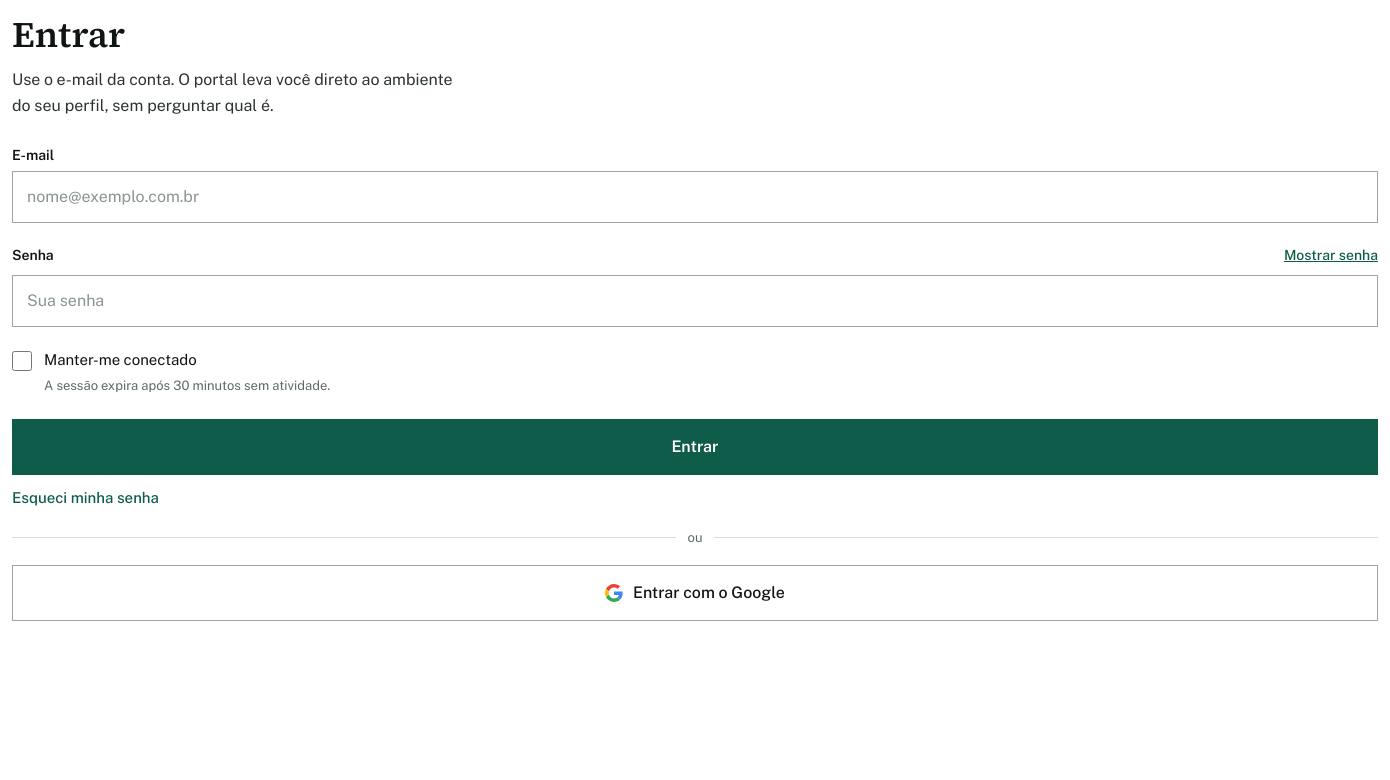
Test case: LoginForm › repete a recusa do servidor sem marcar um dos campos (RN009)
Type "titular@exemplo.com.br" into the field labelled "E-mail" at point(695, 197), box 12,171 -> 1378,223
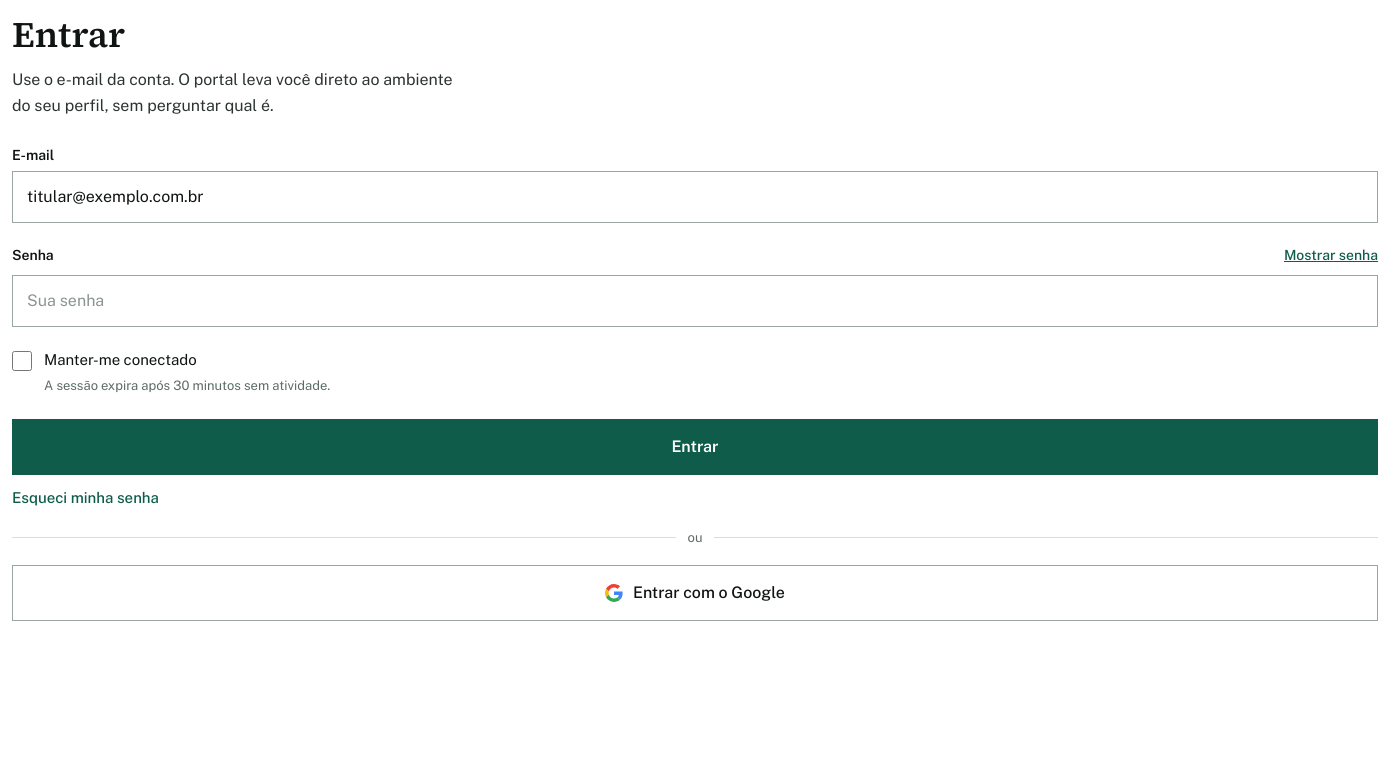
Type "senhaerrada" into the password field labelled "Senha" at point(695, 301), box 12,275 -> 1378,327
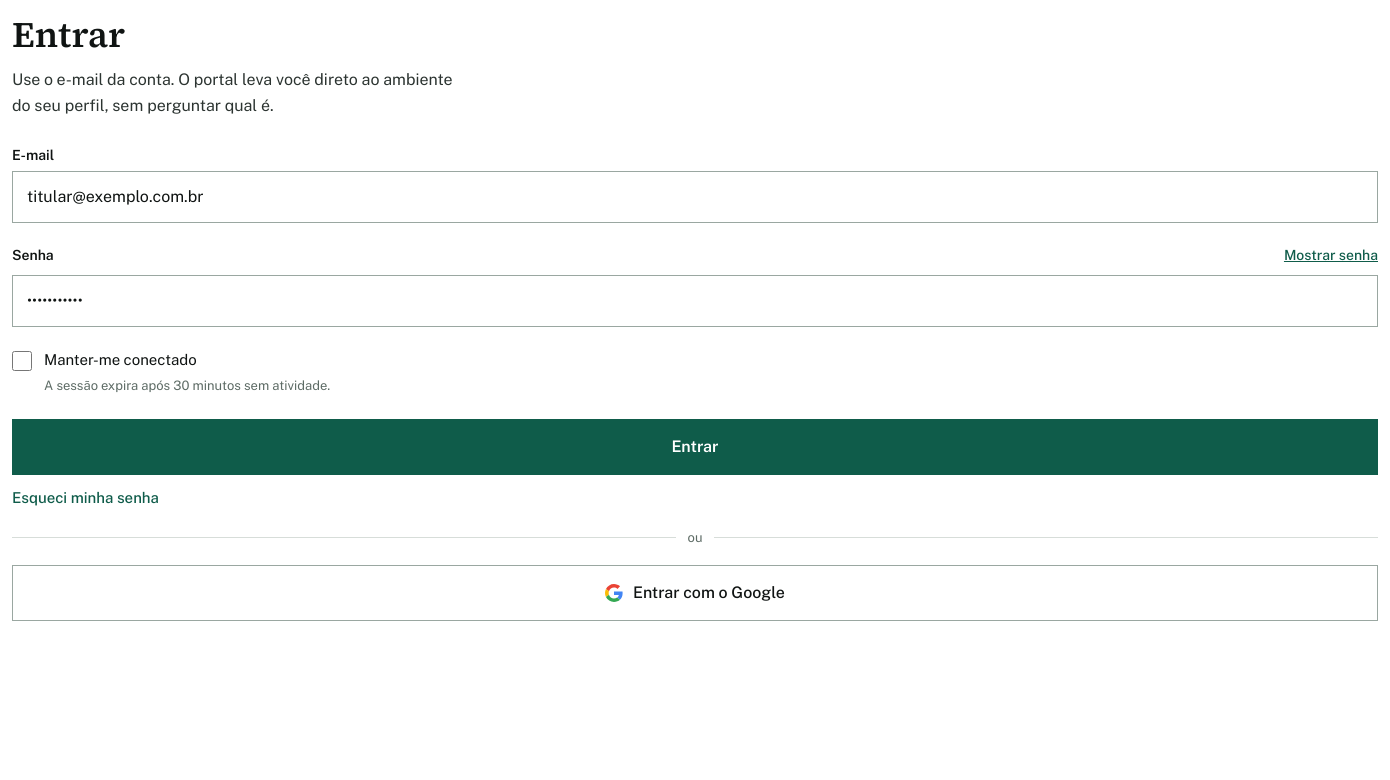
Submit the form
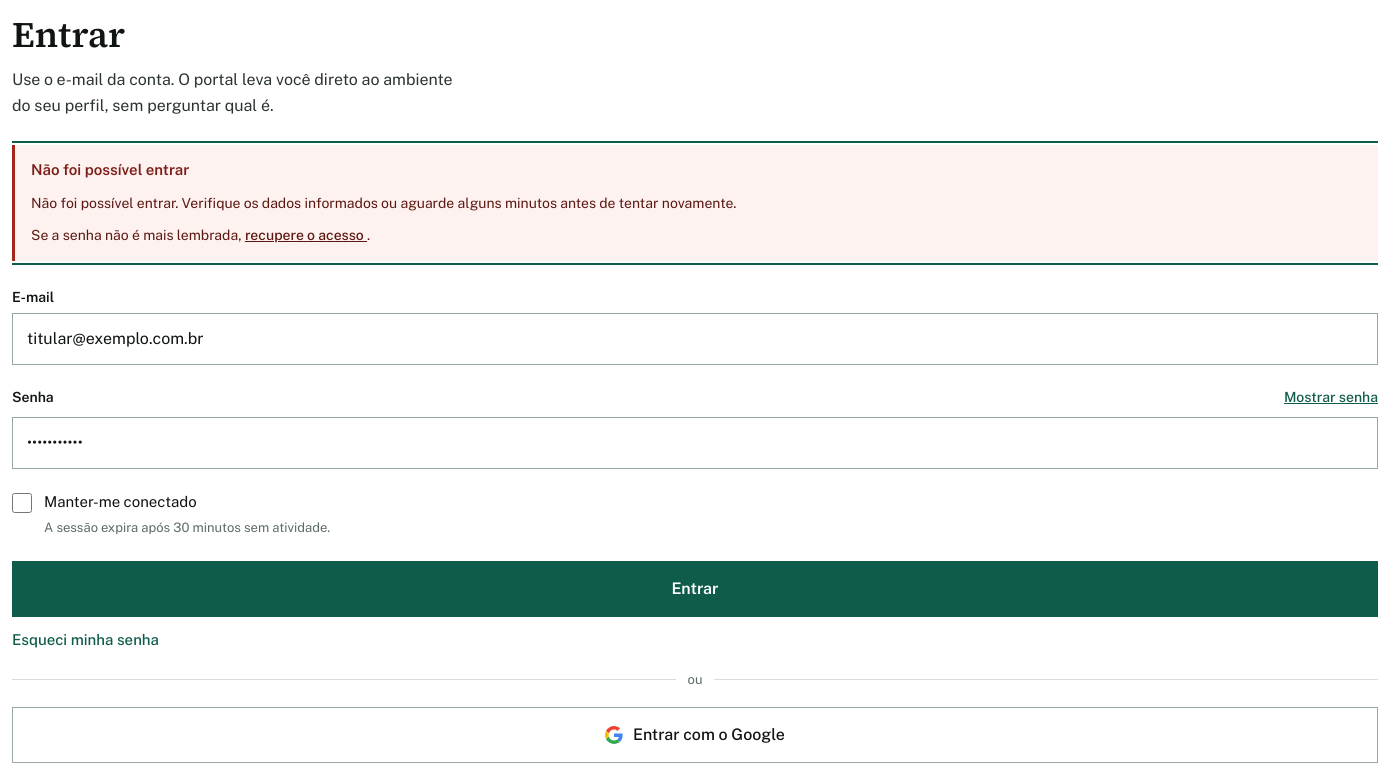
Result: the form shows "Não foi possível entrar" at 31,161 -> 189,178
Result: the form shows "aguarde alguns minutos" at 31,194 -> 736,210
